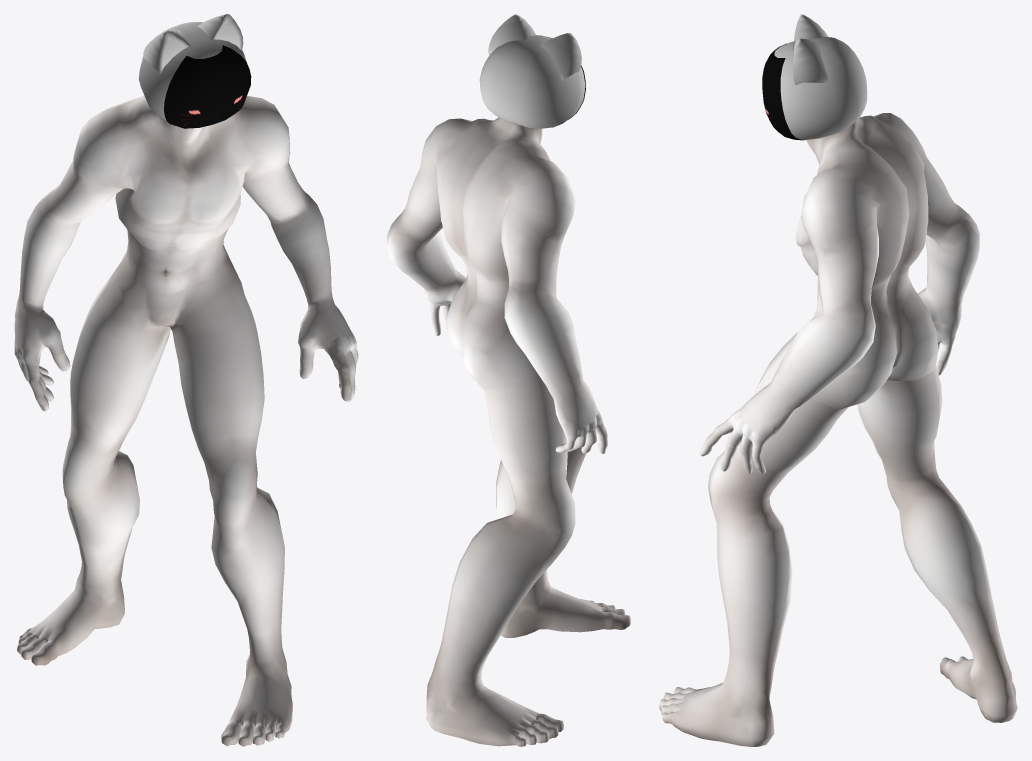
3 renders of one model, left to right at view 1: azimuth 30°, elevation 25°; view 2: azimuth 150°, elevation 25°; view 3: azimuth 270°, elevation 25°, orthographic. The views are drawn at different scales.
Parts seen in each view (by area): view 1: Muscle_Body, ______?001, Cat_Head; view 2: Muscle_Body, Cat_Head; view 3: Muscle_Body, Cat_Head, ______?001.
Boxes of the visible parts, box(x1,y1,x2,y2) form: Muscle_Body: box(14, 95, 358, 746); ______?001: box(164, 45, 251, 128); Cat_Head: box(138, 14, 246, 120); Muscle_Body: box(387, 117, 630, 746); Cat_Head: box(479, 14, 584, 128); Muscle_Body: box(659, 113, 1017, 746); Cat_Head: box(774, 14, 867, 139); ______?001: box(762, 43, 804, 140).
Bounding box in the file's own units: 11.13 × 27.85 × 13.06.
